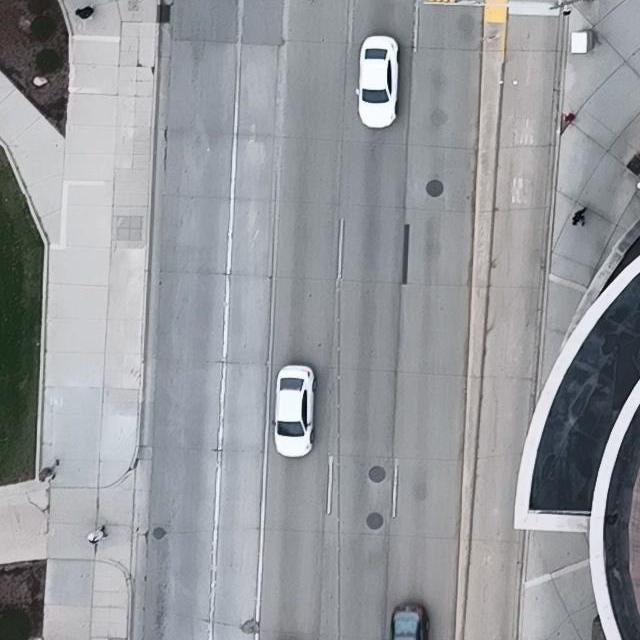car: (354, 36, 400, 128), (272, 364, 316, 458), (389, 602, 430, 640)
